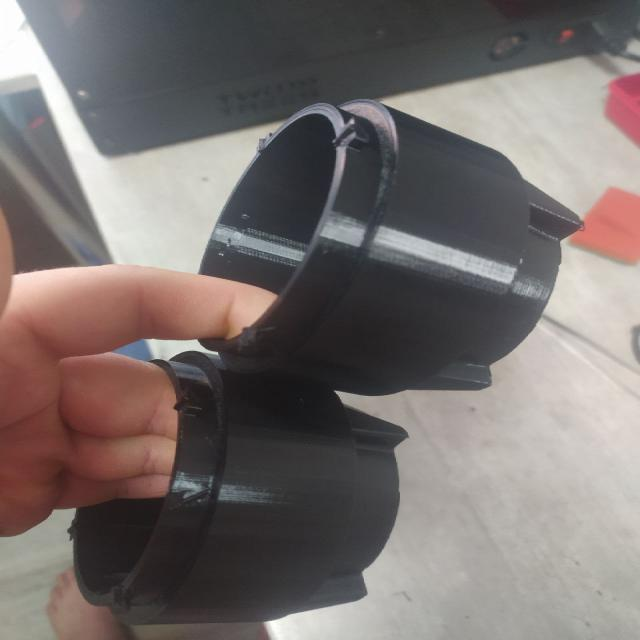Without deffect: (44, 79, 584, 640)
